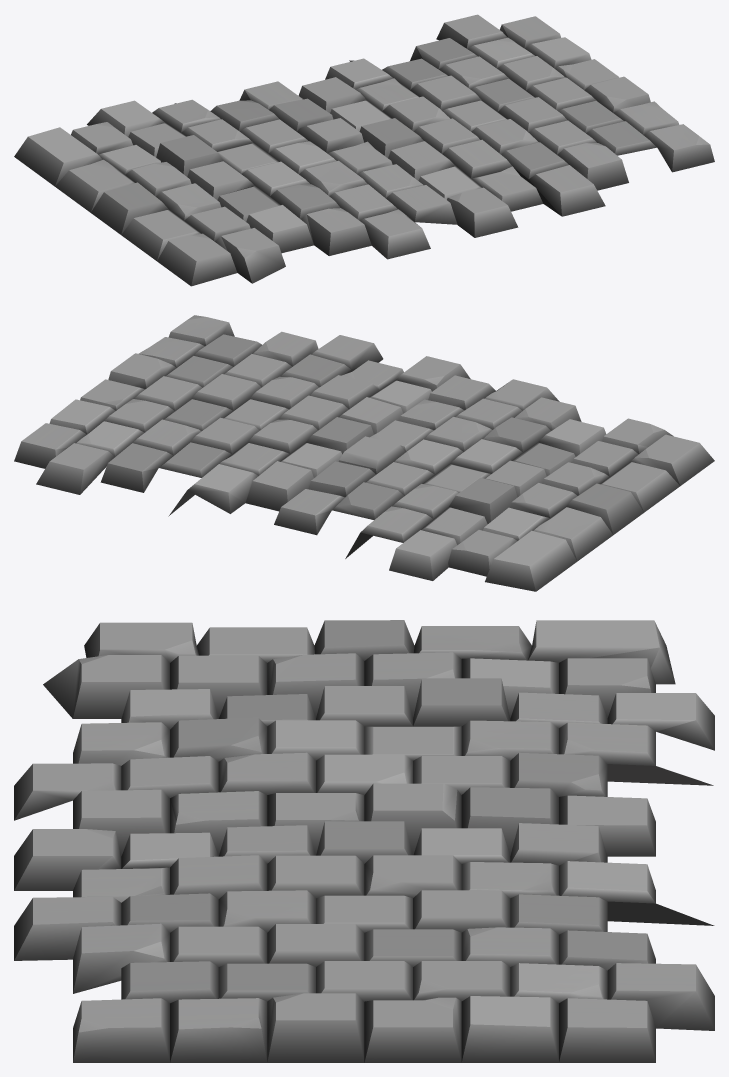
File: CobbledStreet2.fbx
The picture shows the model from 3 angles, top to bottom: view 1: azimuth 30°, elevation 25°; view 2: azimuth 150°, elevation 25°; view 3: azimuth 270°, elevation 25°; orthographic projection. The views are drawn at different scales.
Visible parts, largest first — view 1: CobbledStreet2; view 2: CobbledStreet2; view 3: CobbledStreet2.
Boxes of the visible parts, <box> form: CobbledStreet2: <box>14,14,714,286</box>; CobbledStreet2: <box>14,315,714,591</box>; CobbledStreet2: <box>14,620,714,1062</box>.
Size of the model in its own units: 8.51 by 0.4218 by 6.04.
